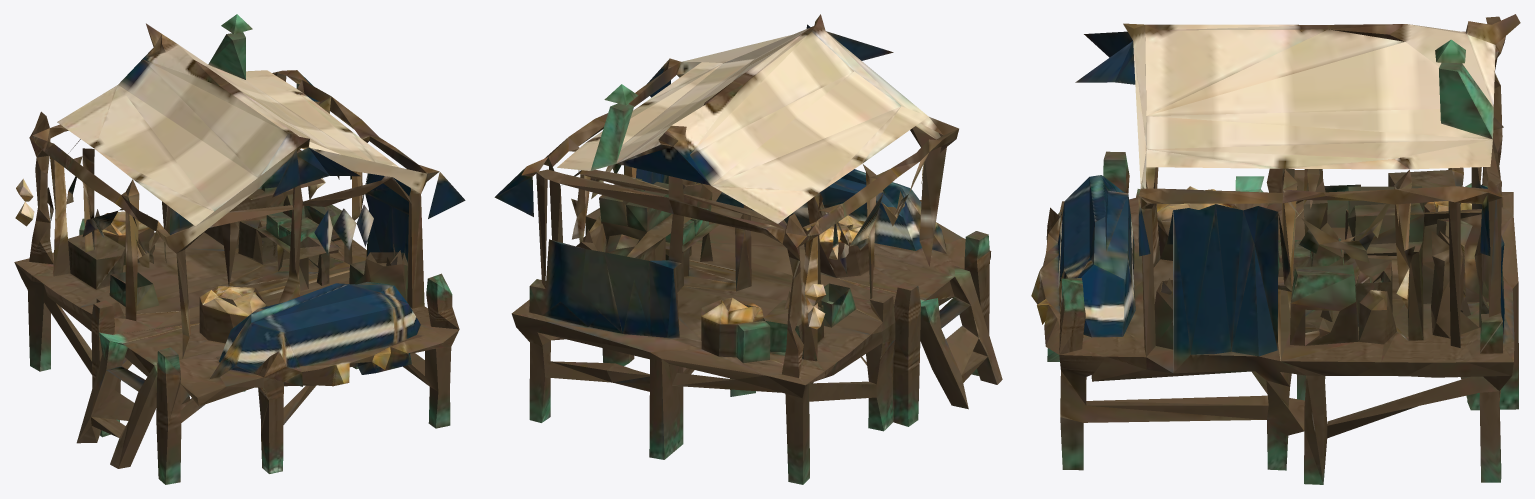
The model's file is fishery.glb.
3 views of the same model, side by side, from view 1: azimuth 30°, elevation 25°; view 2: azimuth 150°, elevation 25°; view 3: azimuth 270°, elevation 25° (orthographic). The views are drawn at different scales.
Visible parts, largest first — view 1: fishery; view 2: fishery; view 3: fishery.
Boxes of the visible parts, left/top/right/bottom form: fishery: left=14, top=14, right=465, bottom=484; fishery: left=494, top=14, right=1002, bottom=484; fishery: left=1031, top=14, right=1520, bottom=484.
Size of the model in its own units: 1.9 by 1.67 by 1.83.
Materials: 1 (1 with a texture image).
